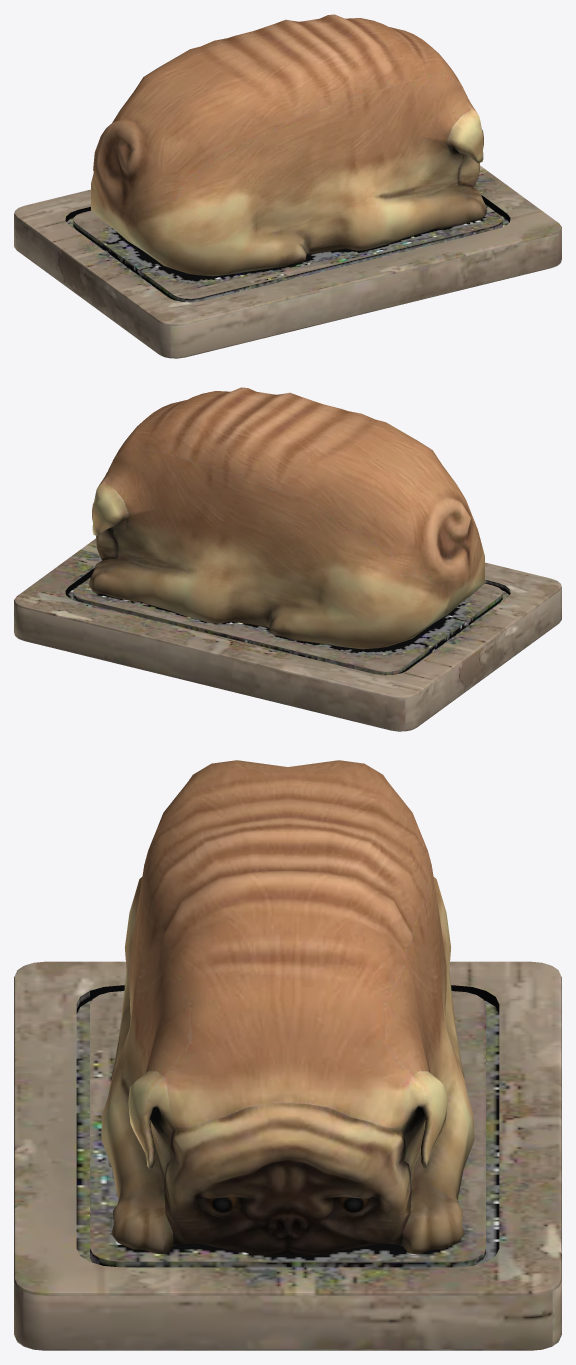
3 views of the same model, one above another, from view 1: azimuth 30°, elevation 25°; view 2: azimuth 150°, elevation 25°; view 3: azimuth 270°, elevation 25° (orthographic). The views are drawn at different scales.
Visible parts, largest first — view 1: body0_model0_lod0_mesh1, body0_model0_lod0_mesh0; view 2: body0_model0_lod0_mesh1, body0_model0_lod0_mesh0; view 3: body0_model0_lod0_mesh1, body0_model0_lod0_mesh0, body0_model0_lod0_mesh2.
Boxes of the visible parts, x1,y1,x2,y2 form: body0_model0_lod0_mesh1: (91, 14, 487, 276); body0_model0_lod0_mesh0: (14, 165, 561, 358); body0_model0_lod0_mesh1: (88, 387, 484, 649); body0_model0_lod0_mesh0: (14, 538, 561, 731); body0_model0_lod0_mesh1: (101, 760, 474, 1255); body0_model0_lod0_mesh0: (14, 961, 561, 1350); body0_model0_lod0_mesh2: (207, 1197, 368, 1212).
Bounding box in the file's own units: 28.26 × 14.63 × 19.71.
Materials: 3 (3 with a texture image).
